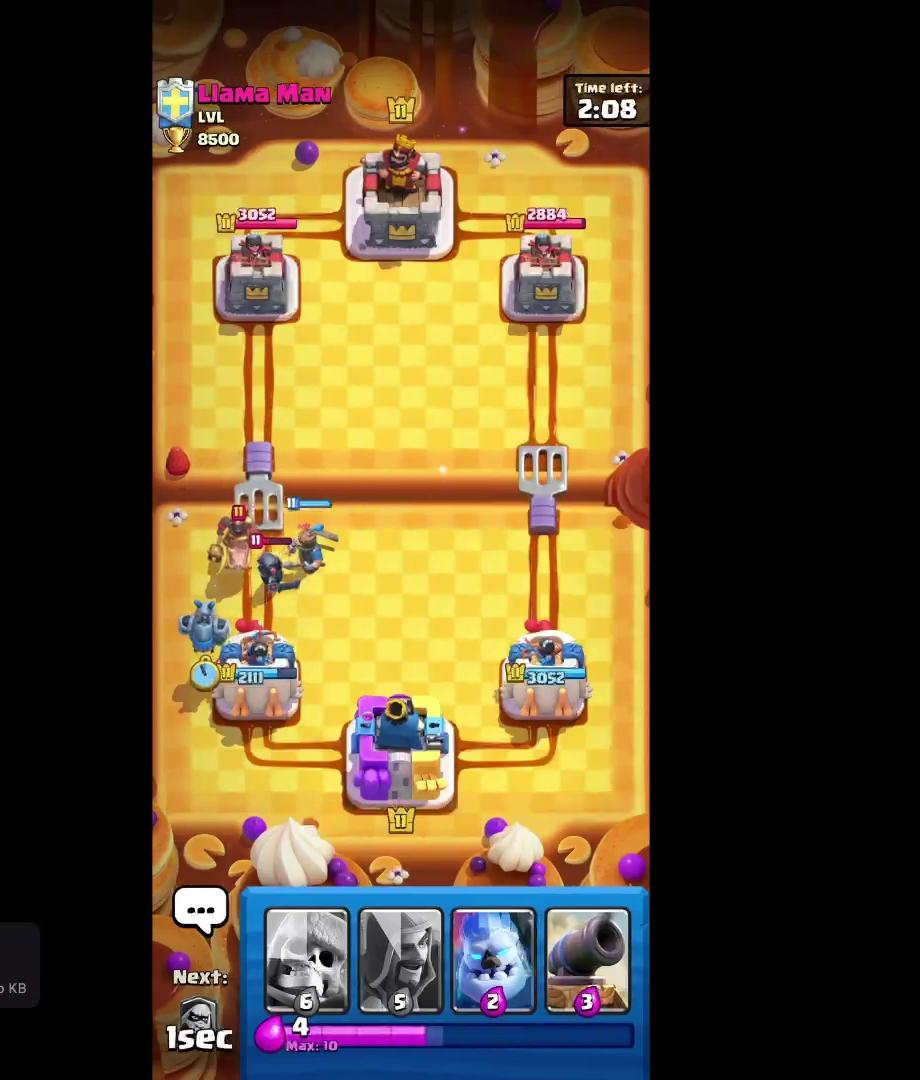Hog Rider: (205, 499, 267, 580)
Mini Pekka: (247, 536, 299, 603)
